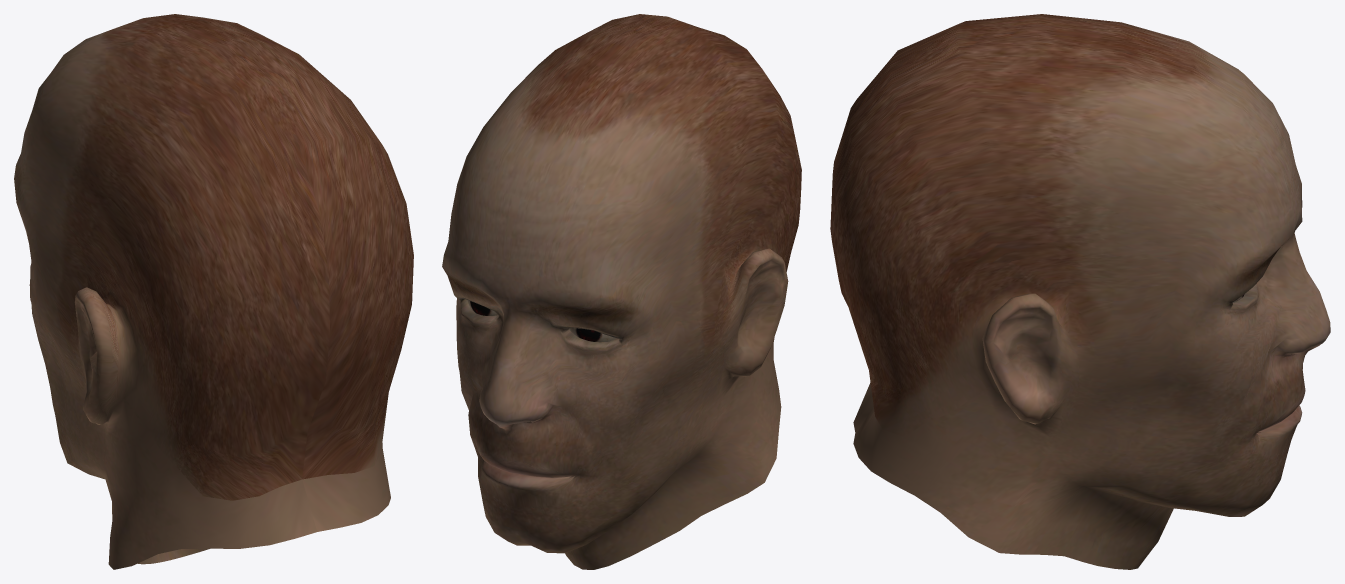
The model's file is G3_Head_Slave_Myrtana_Animated_02_S29.obj.
3 views of the same model, side by side, from view 1: azimuth 30°, elevation 25°; view 2: azimuth 150°, elevation 25°; view 3: azimuth 270°, elevation 25° (orthographic). The views are drawn at different scales.
Parts seen in each view (by area): view 1: G3_Animation_Head_Slave_Main_02; view 2: G3_Animation_Head_Slave_Main_02; view 3: G3_Animation_Head_Slave_Main_02.
Part boxes in pixels (<box>): G3_Animation_Head_Slave_Main_02: <box>14,14,413,569</box>; G3_Animation_Head_Slave_Main_02: <box>442,14,801,569</box>; G3_Animation_Head_Slave_Main_02: <box>830,14,1330,569</box>.
Bounding box in the file's own units: 0.1382 × 0.2411 × 0.2036.
3 materials, 3 textured.
